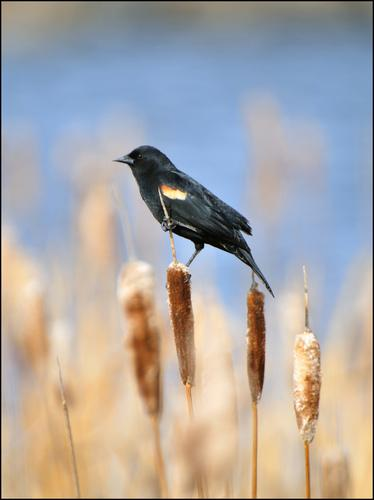010.Red_winged_Blackbird: (114, 141, 275, 291)
